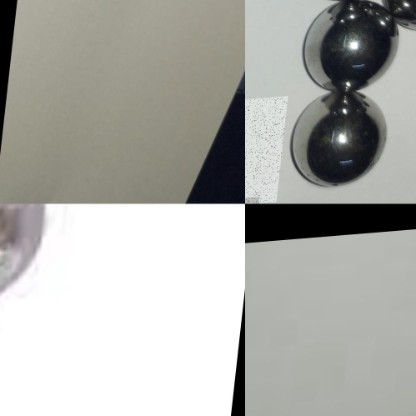ironball: (293, 0, 403, 98), (292, 99, 384, 182), (0, 203, 45, 298), (387, 0, 413, 35)
